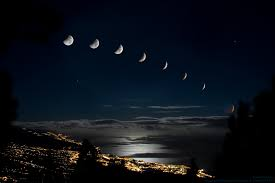moon: (60, 32, 74, 46)
